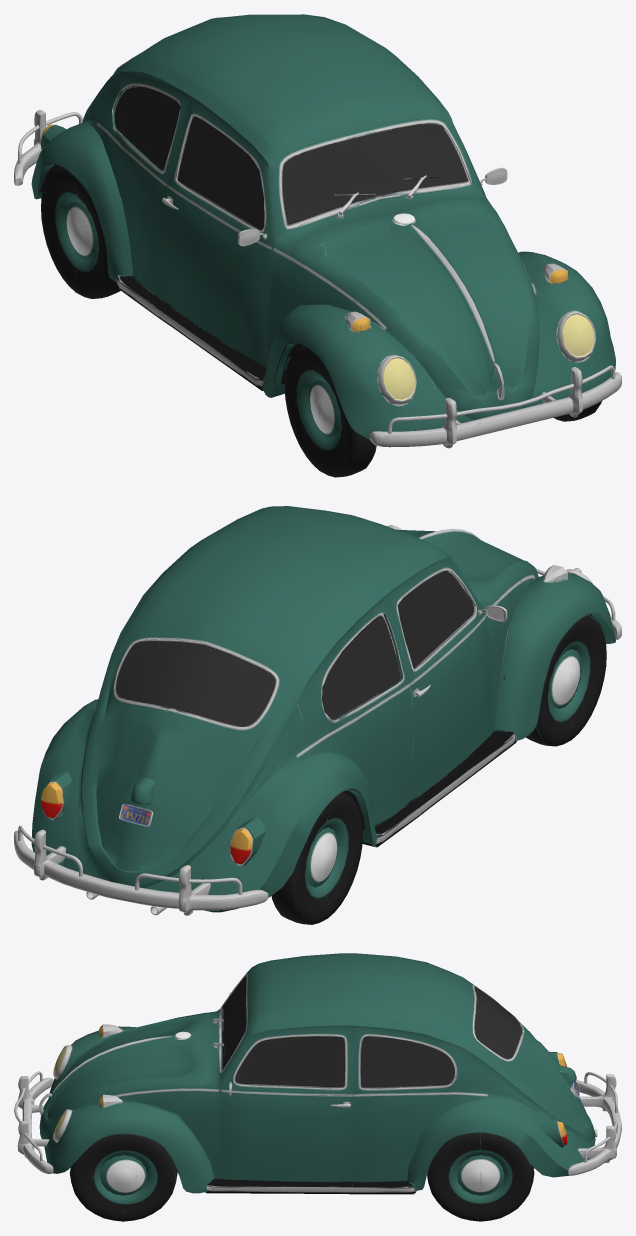
Rendered from 60s_volkswagen_beetle.glb.
3 renders of one model, top to bottom at view 1: azimuth 30°, elevation 25°; view 2: azimuth 150°, elevation 25°; view 3: azimuth 270°, elevation 25°, orthographic. The views are drawn at different scales.
Visible parts, largest first — view 1: BEETLE OPTI; view 2: BEETLE OPTI; view 3: BEETLE OPTI.
Boxes of the visible parts, box(x1,y1,x2,y2) form: BEETLE OPTI: box(14, 14, 621, 477); BEETLE OPTI: box(14, 506, 621, 924); BEETLE OPTI: box(14, 953, 621, 1221).
Bounding box in the file's own units: 1.55 × 1.54 × 4.1.
1 material, 1 textured.
